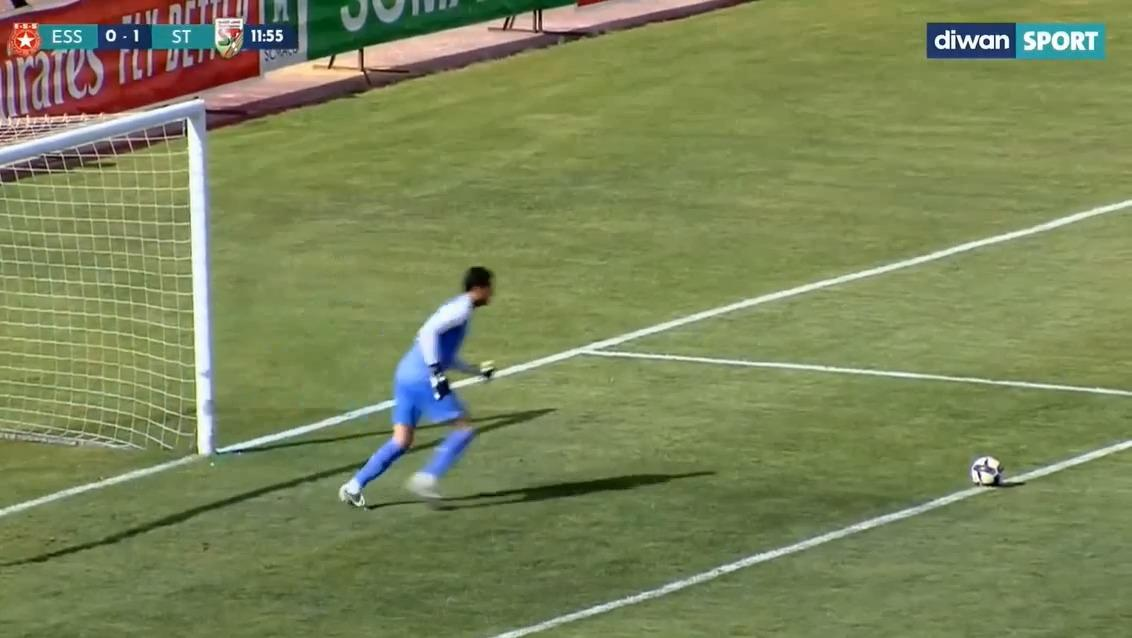ball: (964, 443, 1014, 502)
goalkeeper: (350, 248, 502, 514)
